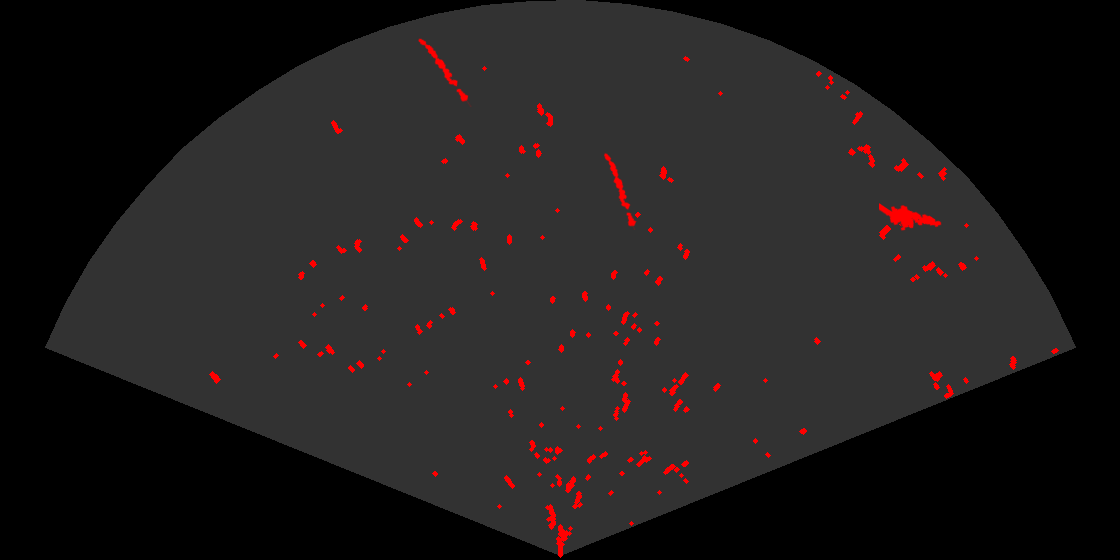chain: (417, 37, 473, 107), (602, 151, 638, 230)
frogman: (879, 202, 943, 232)
